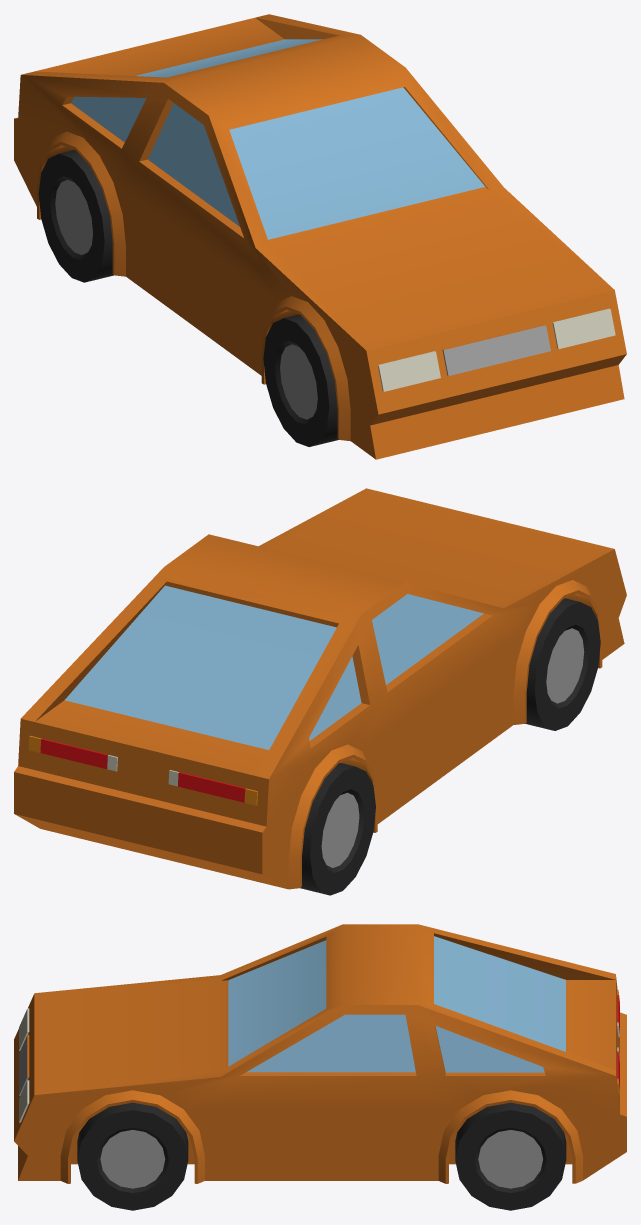
The model's file is car-coupe-orange.gltf.
3 renders of one model, top to bottom at view 1: azimuth 30°, elevation 25°; view 2: azimuth 150°, elevation 25°; view 3: azimuth 270°, elevation 25°, orthographic. The views are drawn at different scales.
Parts seen in each view (by area): view 1: car-coupe-orange_Cube.605; view 2: car-coupe-orange_Cube.605; view 3: car-coupe-orange_Cube.605.
Part boxes in pixels (x1,y1,x2,y2): car-coupe-orange_Cube.605: [14, 14, 626, 459]; car-coupe-orange_Cube.605: [14, 488, 626, 895]; car-coupe-orange_Cube.605: [14, 924, 626, 1210].
Bounding box in the file's own units: 1.71 × 1.36 × 3.97.
